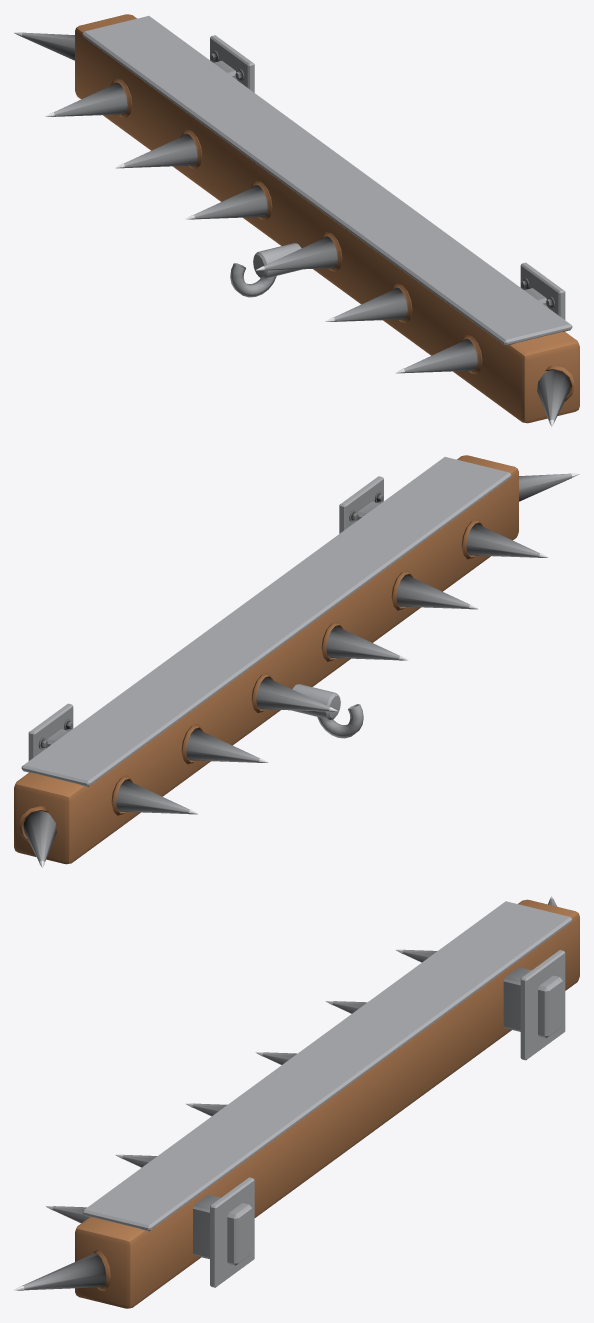
Rendered from br_spikes.glb.
The picture shows the model from 3 angles, top to bottom: view 1: azimuth 30°, elevation 25°; view 2: azimuth 150°, elevation 25°; view 3: azimuth 330°, elevation 25°; orthographic projection.
Visible parts, largest first — view 1: PART; view 2: PART; view 3: PART.
Boxes of the visible parts, x1,y1,x2,y2 form: PART: (14, 14, 579, 426); PART: (14, 455, 579, 867); PART: (14, 896, 579, 1308).
Size of the model in its own units: 0.368 by 0.1954 by 1.9.
